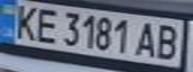1: (112, 16, 133, 54), (78, 11, 96, 50)
3: (57, 10, 81, 47)
8: (93, 15, 115, 52)
A: (133, 19, 160, 58)
B: (151, 21, 184, 61)
E: (30, 6, 63, 44)
K: (9, 1, 42, 42)
